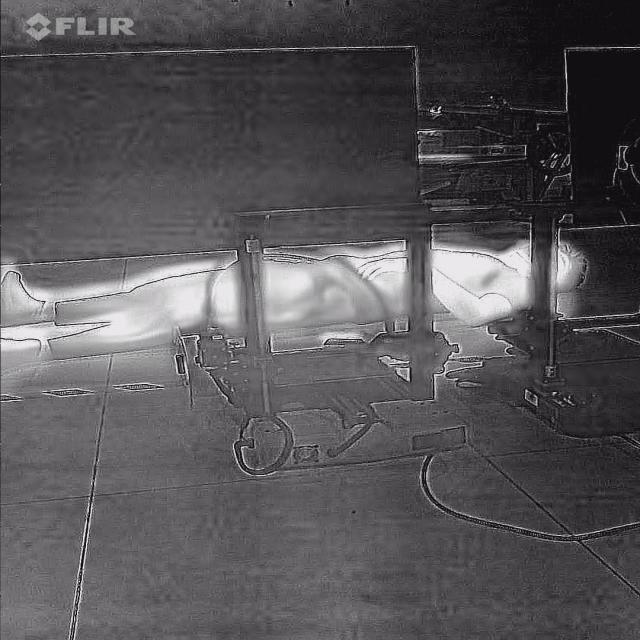Victim: (0, 226, 601, 376)
